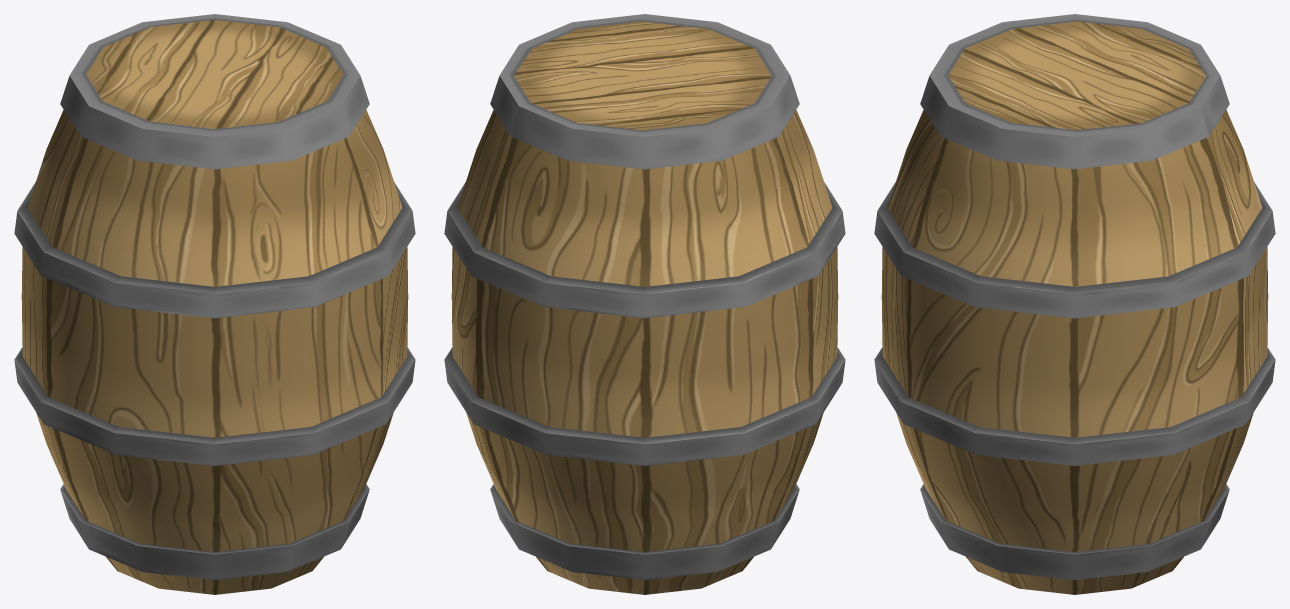
File: Mimic_Mayhem_Barrel_Closed.FBX
3 views of the same model, side by side, from view 1: azimuth 30°, elevation 25°; view 2: azimuth 150°, elevation 25°; view 3: azimuth 270°, elevation 25° (orthographic).
Parts seen in each view (by area): view 1: Cylinder001; view 2: Cylinder001; view 3: Cylinder001.
Part boxes in pixels (x1,y1,x2,y2): Cylinder001: (14,14,415,594); Cylinder001: (444,14,845,594); Cylinder001: (874,14,1275,594).
Size of the model in its own units: 13.53 by 17.56 by 13.53.
